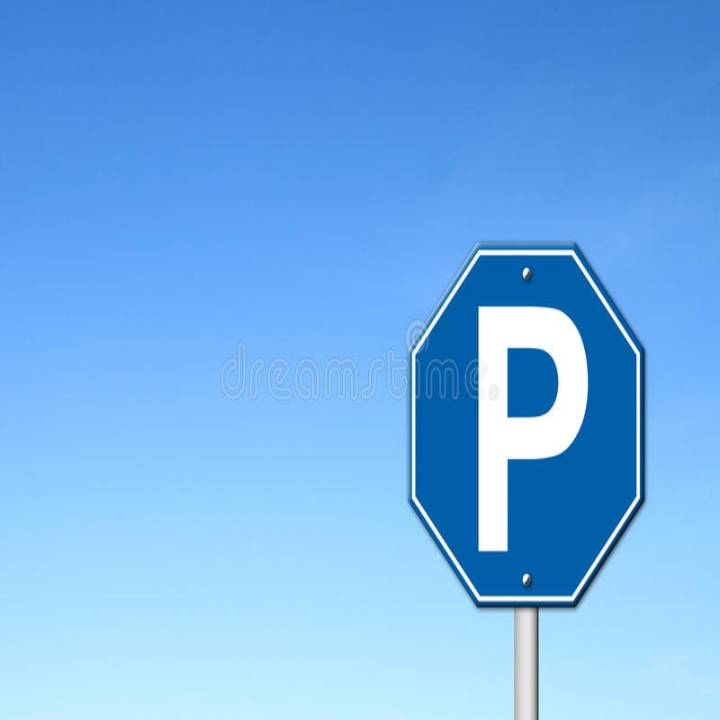parking: (467, 299, 595, 558)
